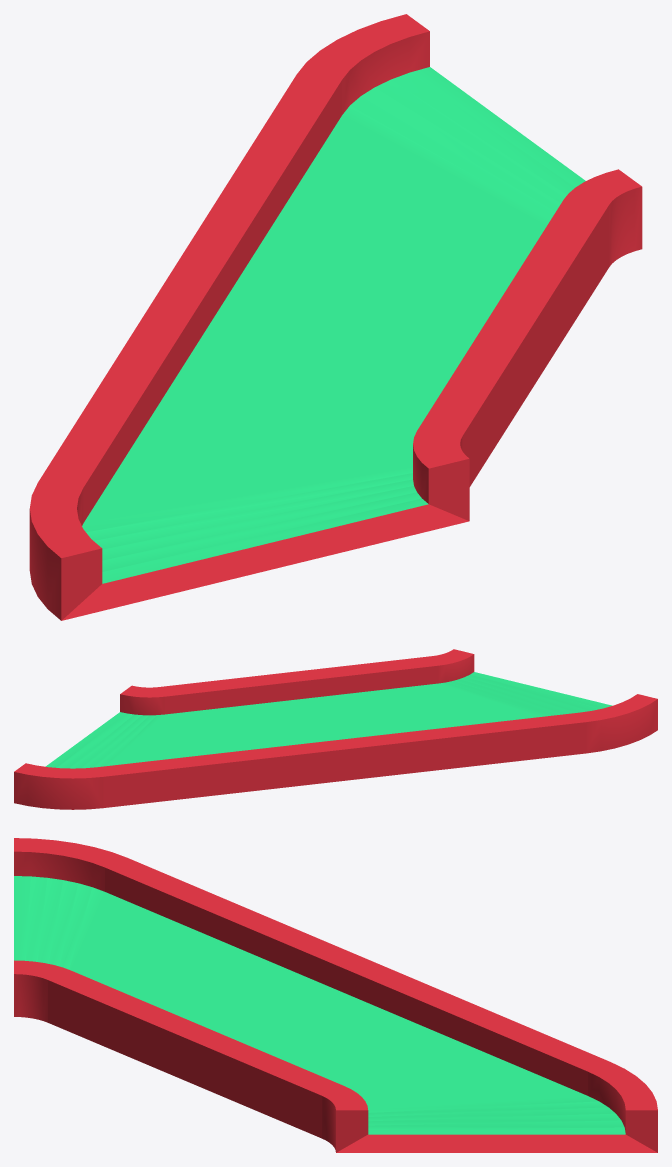
The model's file is skewLargeCorner.fbx.
3 views of the same model, one above another, from view 1: azimuth 30°, elevation 25°; view 2: azimuth 150°, elevation 25°; view 3: azimuth 270°, elevation 25° (orthographic). The views are drawn at different scales.
Visible parts, largest first — view 1: skewLargeCorner; view 2: skewLargeCorner; view 3: skewLargeCorner.
Boxes of the visible parts, x1,y1,x2,y2 form: skewLargeCorner: [29, 14, 642, 620]; skewLargeCorner: [14, 649, 657, 809]; skewLargeCorner: [14, 838, 657, 1152].
Size of the model in its own units: 200 by 200 by 14.67.
